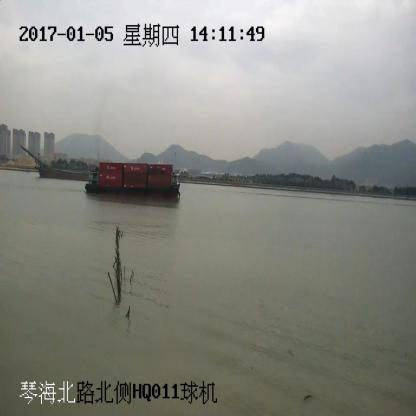Bulk Carrier: (20, 147, 86, 181)
